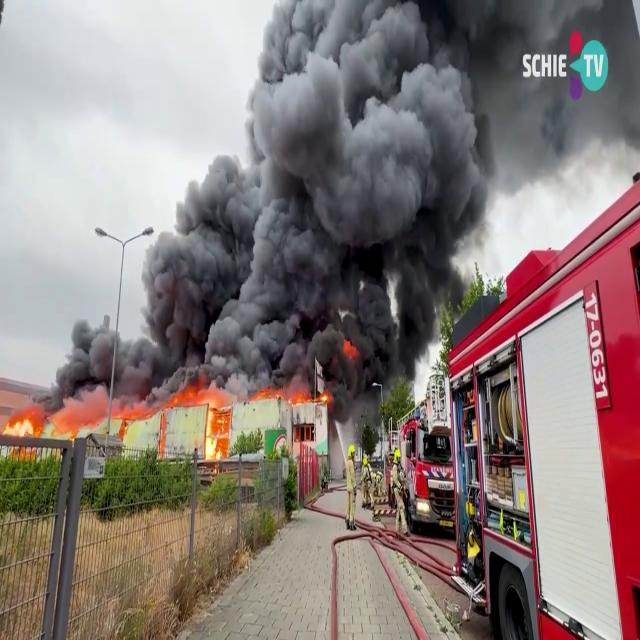Fire: (4, 388, 319, 458)
Smoke: (145, 0, 581, 381), (40, 310, 146, 418)
